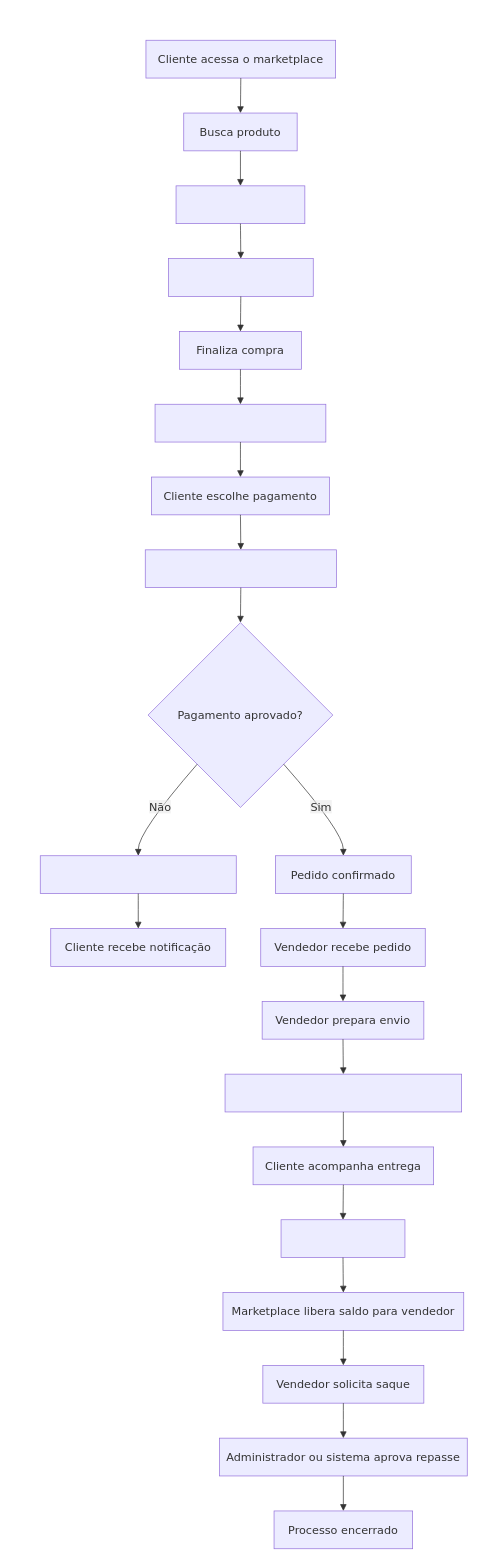
The diagram is 480 pixels wide and 1561 high, and some of its shapes have lost their labels. The shapes that lost their labels are listed below. From the top down, each one's centre as x and y in pixels, then its label:
the point at 240,204: Visualiza produto
the point at 240,277: Adiciona ao carrinho
the point at 240,423: Marketplace calcula frete
the point at 240,568: Gateway processa pagamento
the point at 138,874: Pedido cancelado ou pendente
the point at 343,1092: Serviço de frete atualiza rastreamento
the point at 342,1238: Pedido entregue
